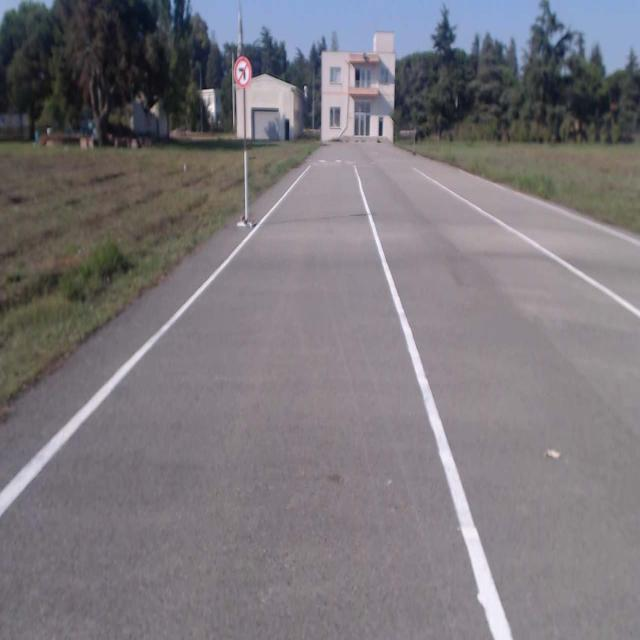soladonulmez: (234, 58, 251, 88)
